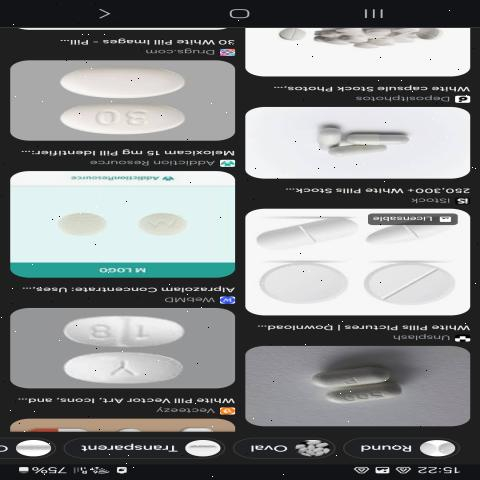Pill: (27, 60, 193, 107), (25, 311, 220, 349), (35, 349, 198, 392), (236, 206, 354, 255), (43, 101, 191, 140), (249, 260, 358, 309), (362, 259, 458, 310), (26, 204, 116, 243), (321, 382, 407, 418), (131, 204, 195, 244), (294, 362, 382, 389), (318, 127, 413, 145)
